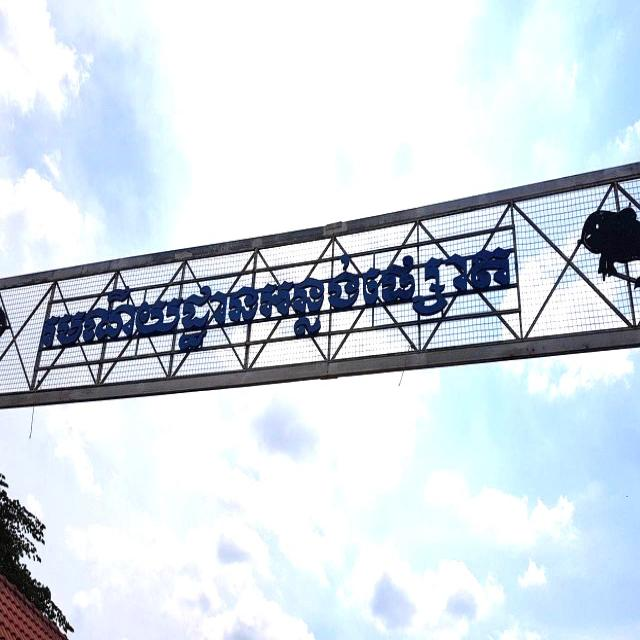Yolov11kh: (37, 233, 517, 354)
